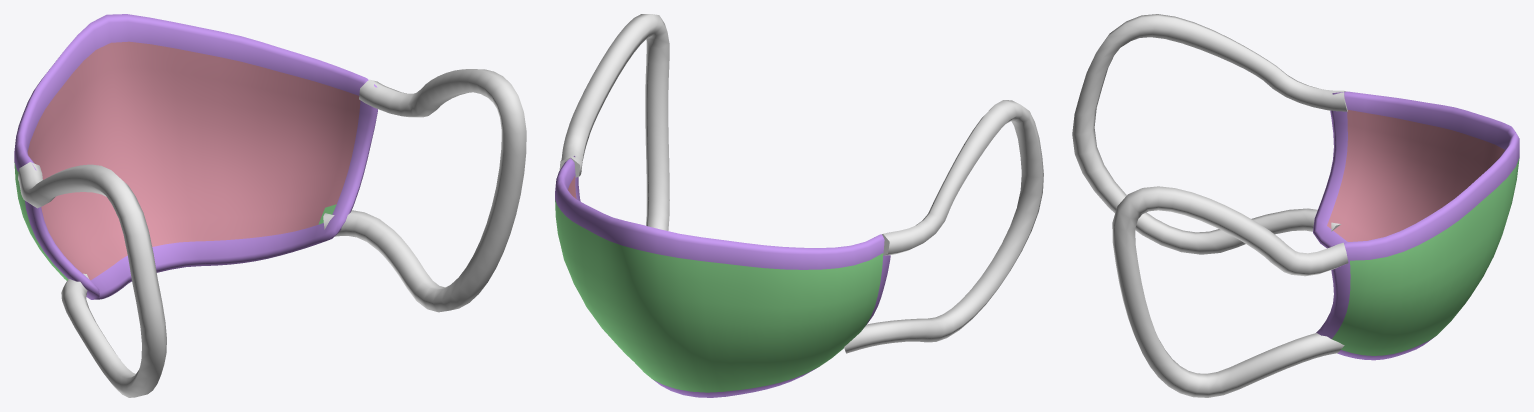
The model's file is Masque.FBX.
3 renders of one model, left to right at view 1: azimuth 30°, elevation 25°; view 2: azimuth 150°, elevation 25°; view 3: azimuth 270°, elevation 25°, orthographic. The views are drawn at different scales.
Visible parts, largest first — view 1: Sphere008, Line001; view 2: Sphere008, Line001; view 3: Sphere008, Line001.
Boxes of the visible parts, left/top/right/bottom form: Sphere008: left=14, top=14, right=377, bottom=299; Line001: left=18, top=69, right=526, bottom=397; Sphere008: left=555, top=156, right=890, bottom=397; Line001: left=559, top=14, right=1043, bottom=353; Sphere008: left=1313, top=91, right=1519, bottom=360; Line001: left=1072, top=14, right=1348, bottom=397.
Size of the model in its own units: 2.77 by 1.65 by 2.85.
